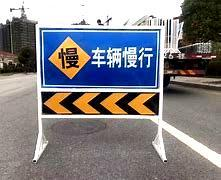sign: (39, 27, 159, 116)
